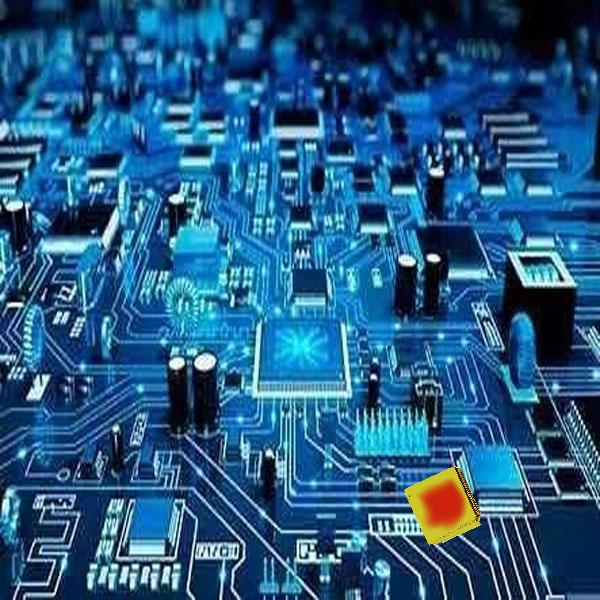componente_T: (401, 464, 485, 547)
